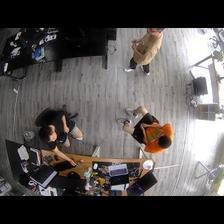normal: (32, 103, 85, 164), (118, 103, 177, 156), (124, 27, 162, 76)
